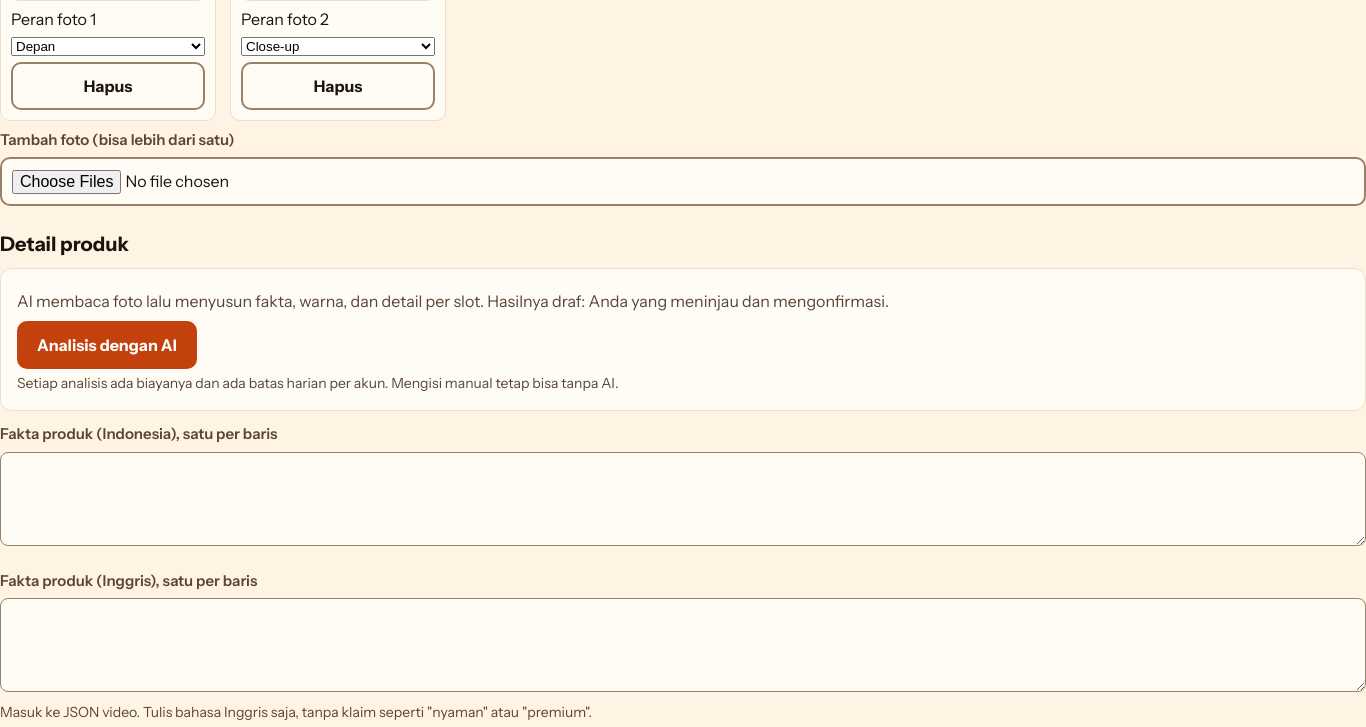
halaman Produk detail › analisis AI: memanggil fungsi untuk produk ini, mengisi editor, menyimpan draf (status analyzed), menampilkan catatan AI dan butir yang dibuang; staf TIDAK meli
(page scrolled)
Click the button with test id "analisis": x=107, y=345 [17,321,197,369]
(page scrolled)
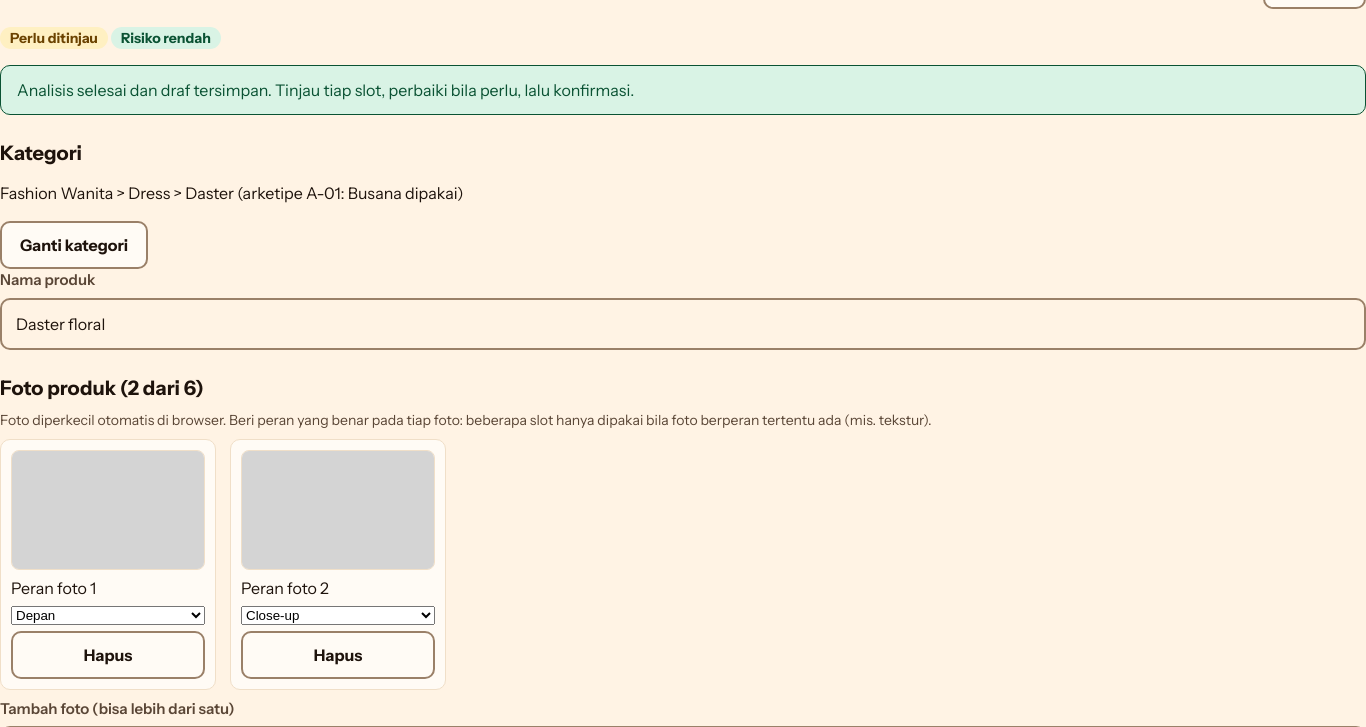
Result: the text with test id "status-produk" reads "Perlu ditinjau" at [10,29,98,47]
Result: the message with test id "pesan-produk" shows "draf tersimpan" at [17,80,634,100]
